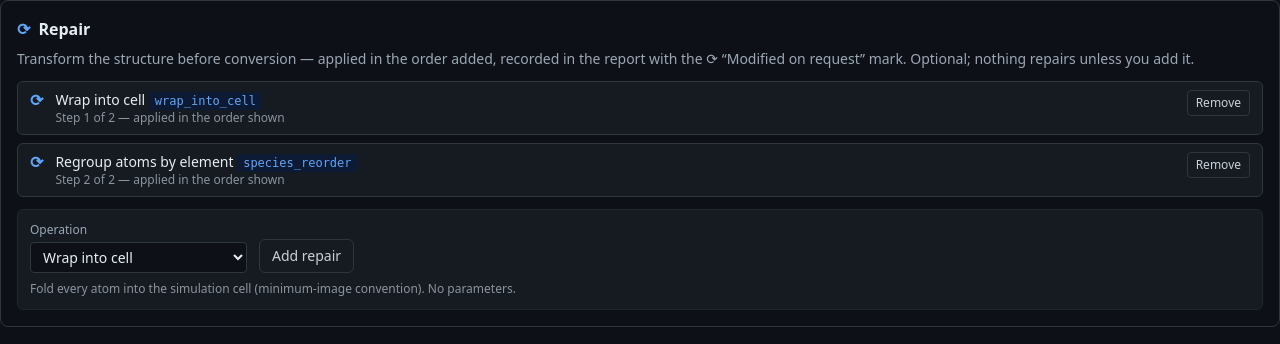
RepairPicker › removing a card yields the remaining list in the same relative order
The image size is (1280, 344).
Expected: the number of list items with test id "repair-card" is 2, [17,81,1263,135]; [17,143,1263,197]
What coordinates should you click on to do the following:
click the button with test id "repair-remove" in the row of "Wrap into cell"
I would click on:
 (1218, 103)
Its box is [1187,90,1250,116].
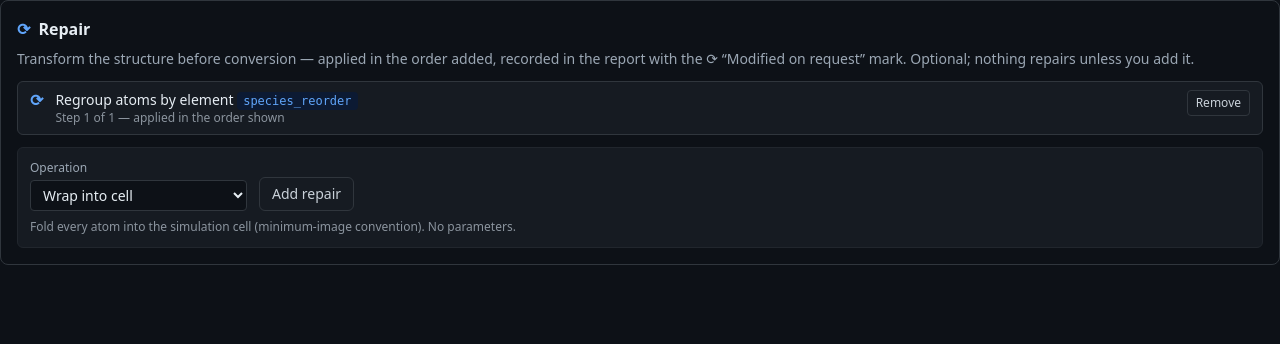
Expected: the text "species_reorder" is shown, [237,92,358,110]
Now the number of list items with test id "repair-card" is 1, box [17,81,1263,135]
Now the text "Step 1 of 1 — applied in the order shown" is shown, box [55,109,285,126]
